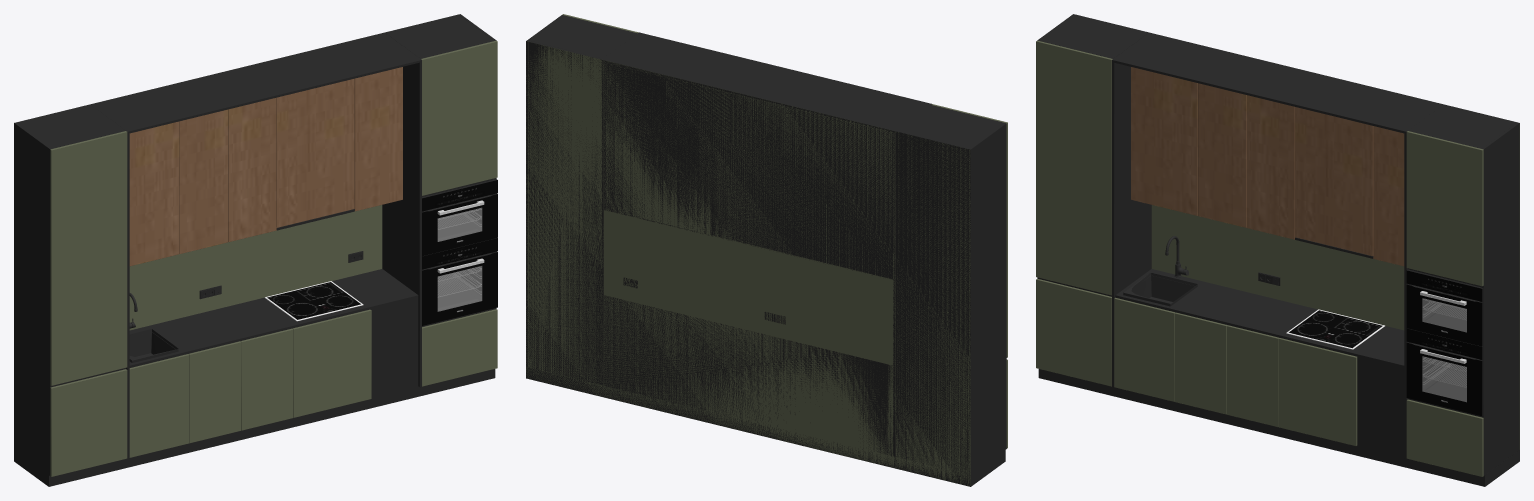
The model's file is kitchen_set2.glb.
3 renders of one model, left to right at view 1: azimuth 30°, elevation 25°; view 2: azimuth 150°, elevation 25°; view 3: azimuth 330°, elevation 25°, orthographic.
Visible parts, largest first — view 1: Plane.003, Plane.005, Plane.001, Plane.002, Plane.009, Plane.038, Plane.018, Plane.020, Plane.045, Plane, Plane.012, Plane.044; view 2: Plane.009, Plane.001, Plane.002, Plane.003; view 3: Plane.003, Plane.005, Plane.002, Plane.001, Plane.009, Plane.038, Plane.018, Plane.020, Plane, Plane.045, Plane.012, Plane.044.
Boxes of the visible parts, x1,y1,x2,y2 form: Plane.003: (50, 40, 497, 476); Plane.005: (129, 67, 402, 266); Plane.001: (14, 104, 495, 486); Plane.002: (90, 14, 496, 458); Plane.009: (129, 205, 382, 330); Plane.038: (422, 238, 497, 325); Plane.018: (422, 179, 497, 256); Plane.020: (264, 281, 363, 321); Plane.045: (437, 266, 481, 311); Plane: (129, 329, 178, 362); Plane.012: (437, 208, 481, 241); Plane.044: (437, 267, 481, 297); Plane.009: (526, 41, 970, 486); Plane.001: (526, 62, 1006, 486); Plane.002: (526, 15, 931, 456); Plane.003: (562, 14, 1007, 448); Plane.003: (1036, 40, 1483, 476); Plane.005: (1131, 67, 1404, 266); Plane.002: (1112, 32, 1519, 475); Plane.001: (1037, 14, 1519, 486); Plane.009: (1151, 123, 1519, 449); Plane.038: (1406, 328, 1482, 416); Plane.018: (1406, 270, 1482, 346); Plane.020: (1286, 309, 1384, 349); Plane: (1123, 273, 1197, 306); Plane.045: (1422, 356, 1466, 401); Plane.012: (1422, 298, 1466, 331); Plane.044: (1422, 357, 1466, 387).
Size of the model in its own units: 4 by 2.9 by 0.6143.
14 materials, 4 textured.
